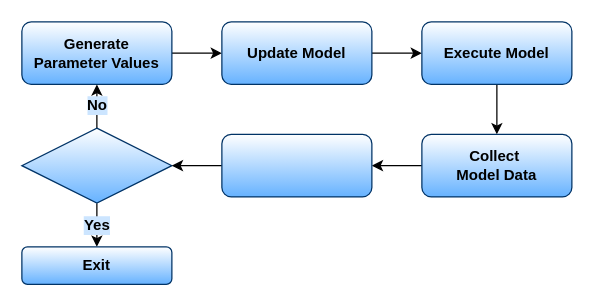
The diagram is 594 pixels wide and 306 high, and some of its shapes have lost their labels. Each missing label, with the centre of its shape:
"Evaluate Objectives" belongs at (x=296, y=165).
"Objectives Reached?" belongs at (x=96, y=165).
